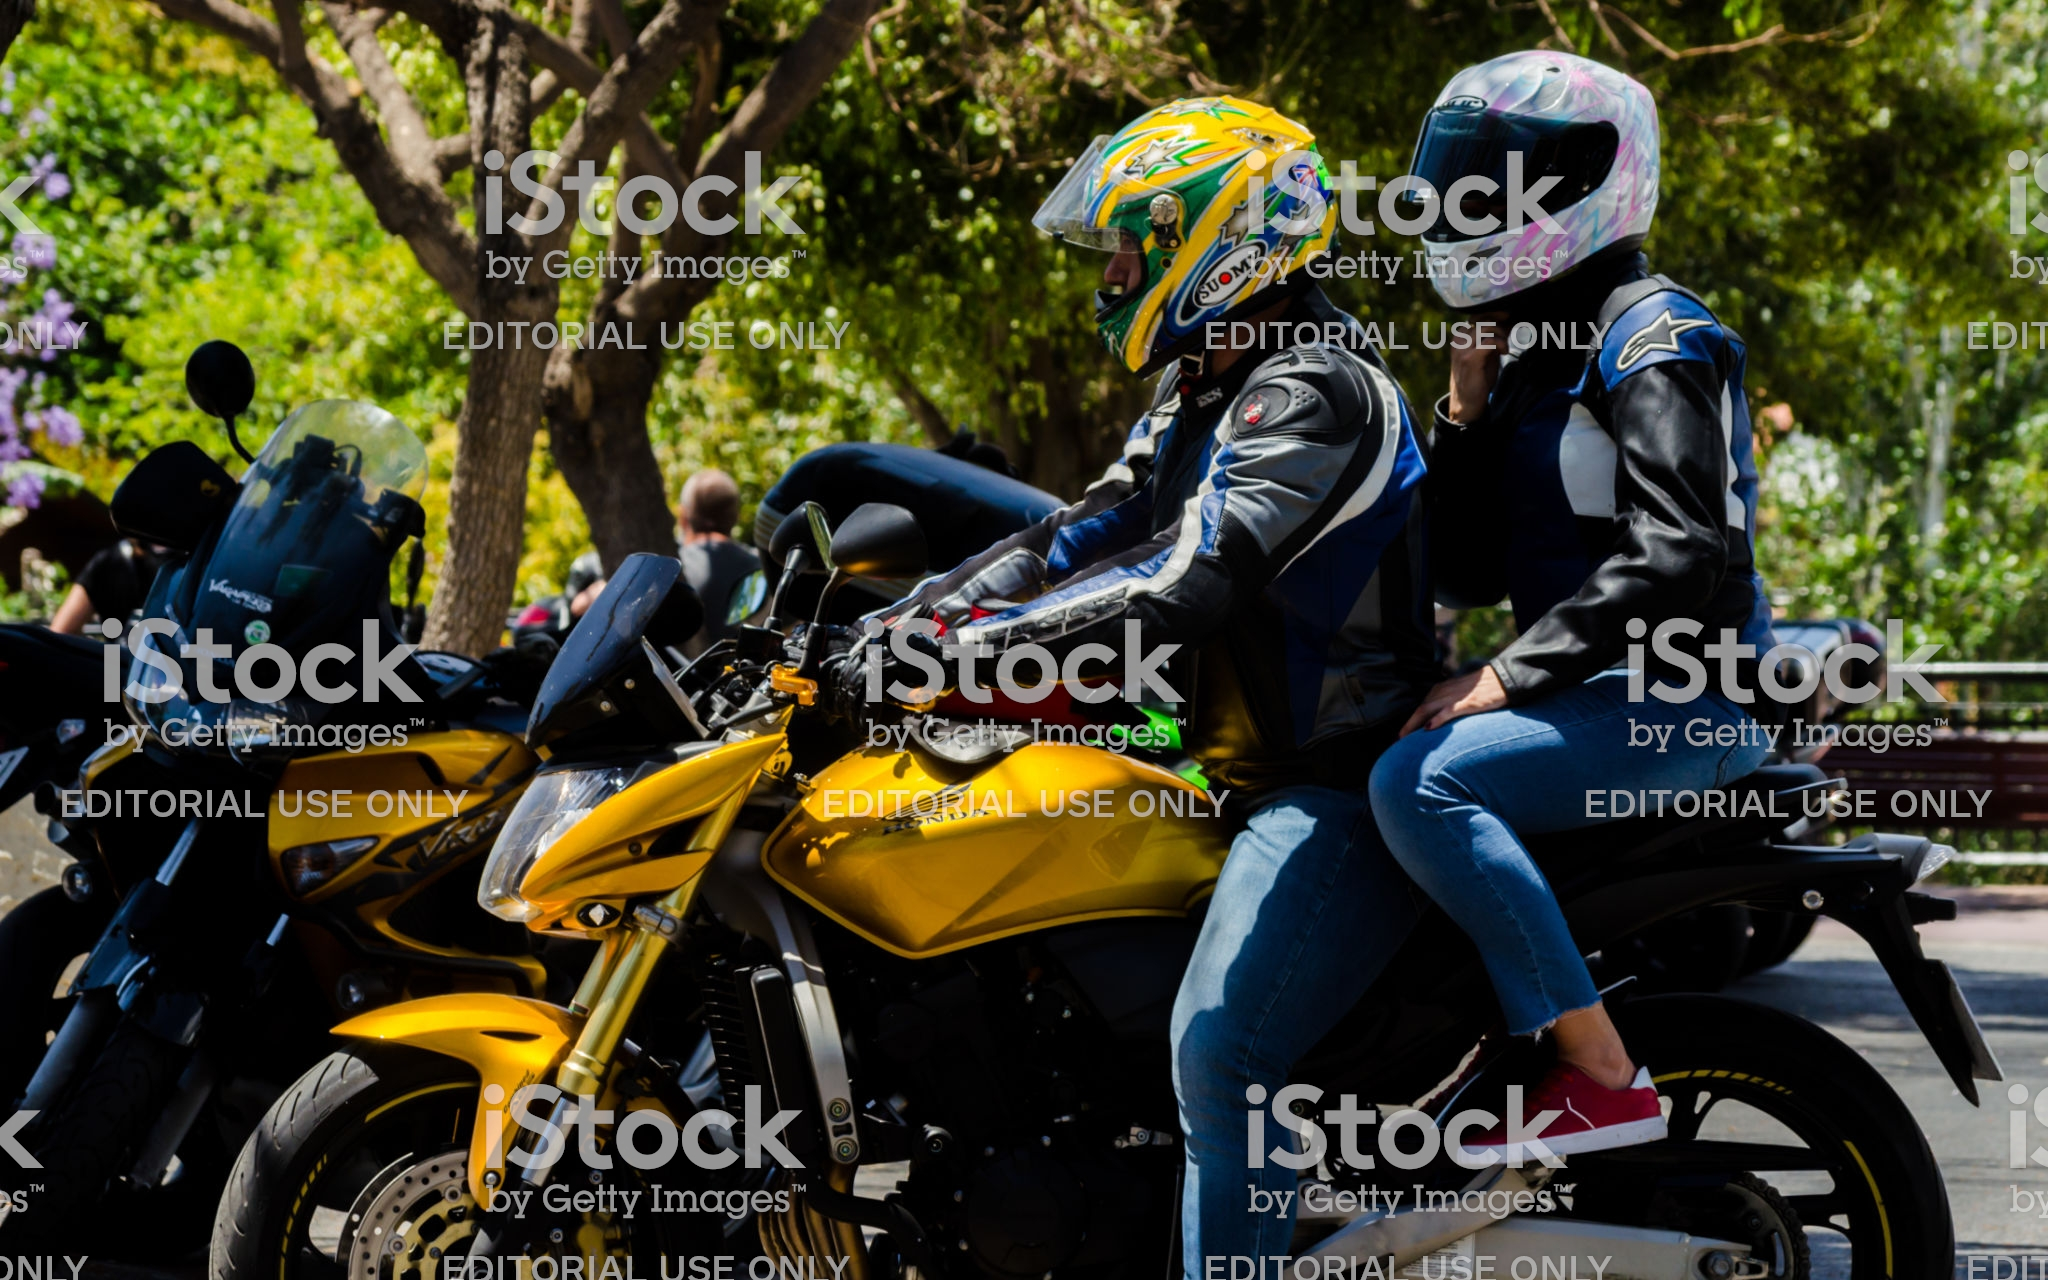helmet: (1028, 91, 1348, 345), (1393, 53, 1699, 293)
